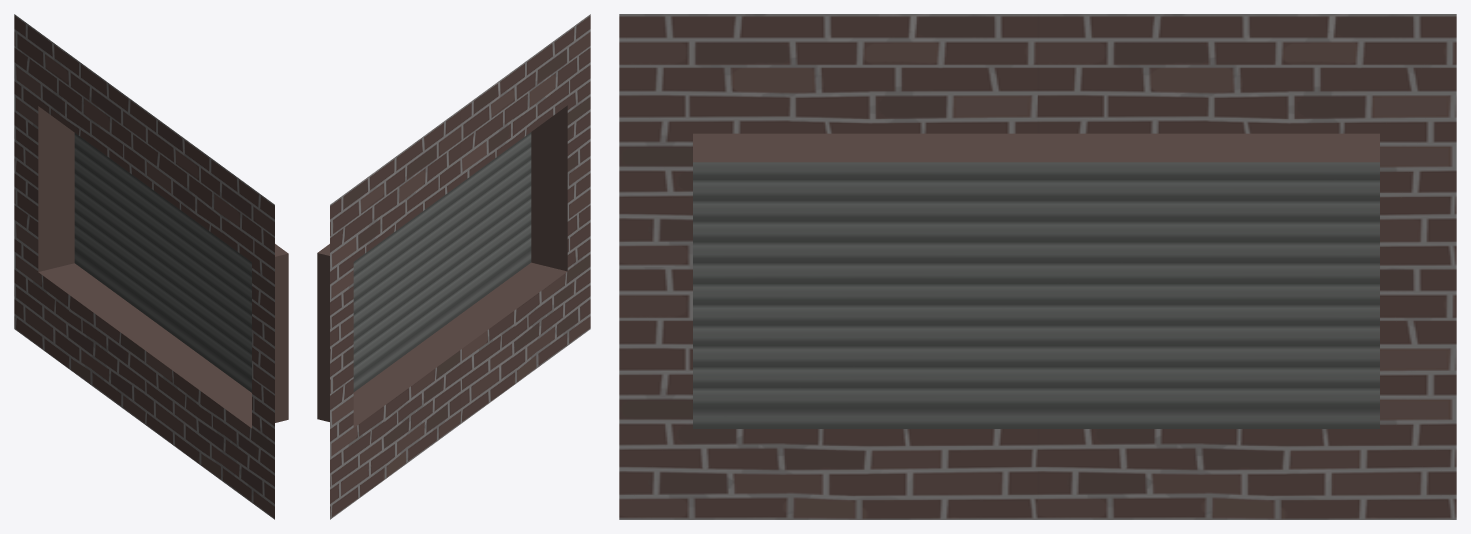
The model's file is Bock_E2(1).fbx.
3 renders of one model, left to right at view 1: azimuth 30°, elevation 25°; view 2: azimuth 150°, elevation 25°; view 3: azimuth 270°, elevation 25°, orthographic. The views are drawn at different scales.
Visible parts, largest first — view 1: Bock_E2; view 2: Bock_E2; view 3: Bock_E2.
Boxes of the visible parts, x1,y1,x2,y2 form: Bock_E2: [14, 14, 288, 519]; Bock_E2: [317, 14, 590, 519]; Bock_E2: [619, 14, 1456, 519].
Size of the model in its own units: 48.5 by 400 by 600.
